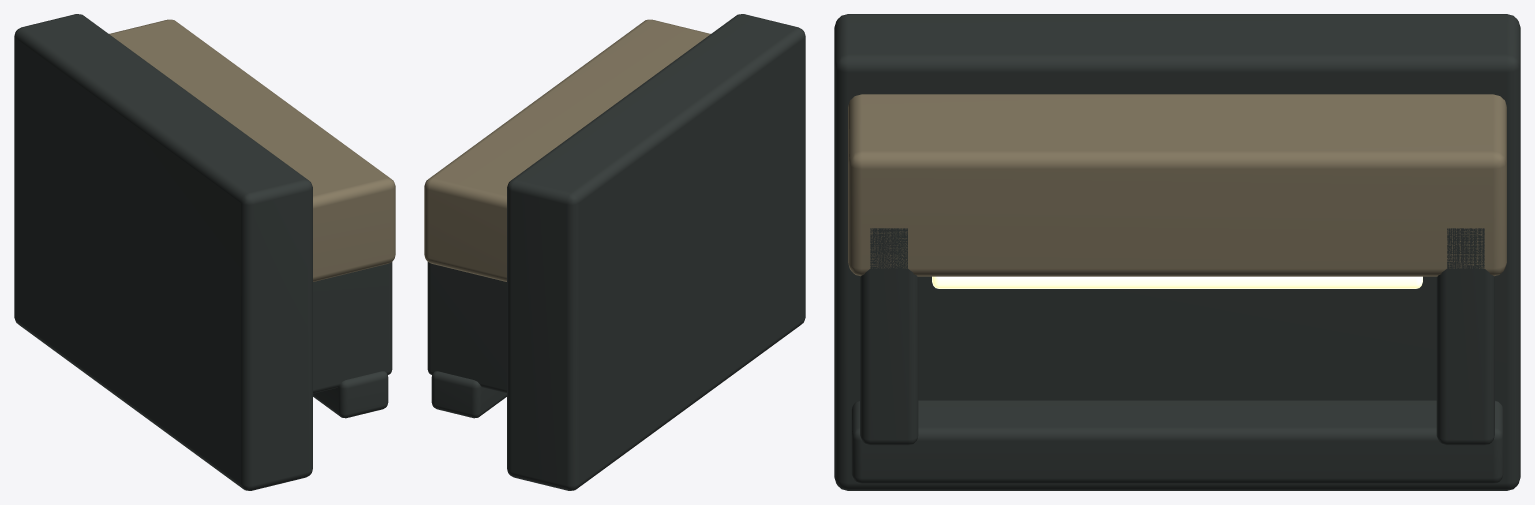
File: stair-downlight.glb
3 views of the same model, side by side, from view 1: azimuth 30°, elevation 25°; view 2: azimuth 150°, elevation 25°; view 3: azimuth 270°, elevation 25° (orthographic). The views are drawn at different scales.
Visible parts, largest first — view 1: Entry | blackened steel, Entry | patinated bronze; view 2: Entry | blackened steel, Entry | patinated bronze; view 3: Entry | blackened steel, Entry | patinated bronze, Entry | warm recessed diffuser.
Boxes of the visible parts, <box> form: Entry | blackened steel: <box>14,14,392,490</box>; Entry | patinated bronze: <box>109,19,395,281</box>; Entry | blackened steel: <box>427,14,805,490</box>; Entry | patinated bronze: <box>424,19,710,281</box>; Entry | blackened steel: <box>834,14,1520,490</box>; Entry | patinated bronze: <box>848,94,1506,276</box>; Entry | warm recessed diffuser: <box>932,276,1422,288</box>.
Size of the model in its own units: 0.078 by 0.14 by 0.2.
